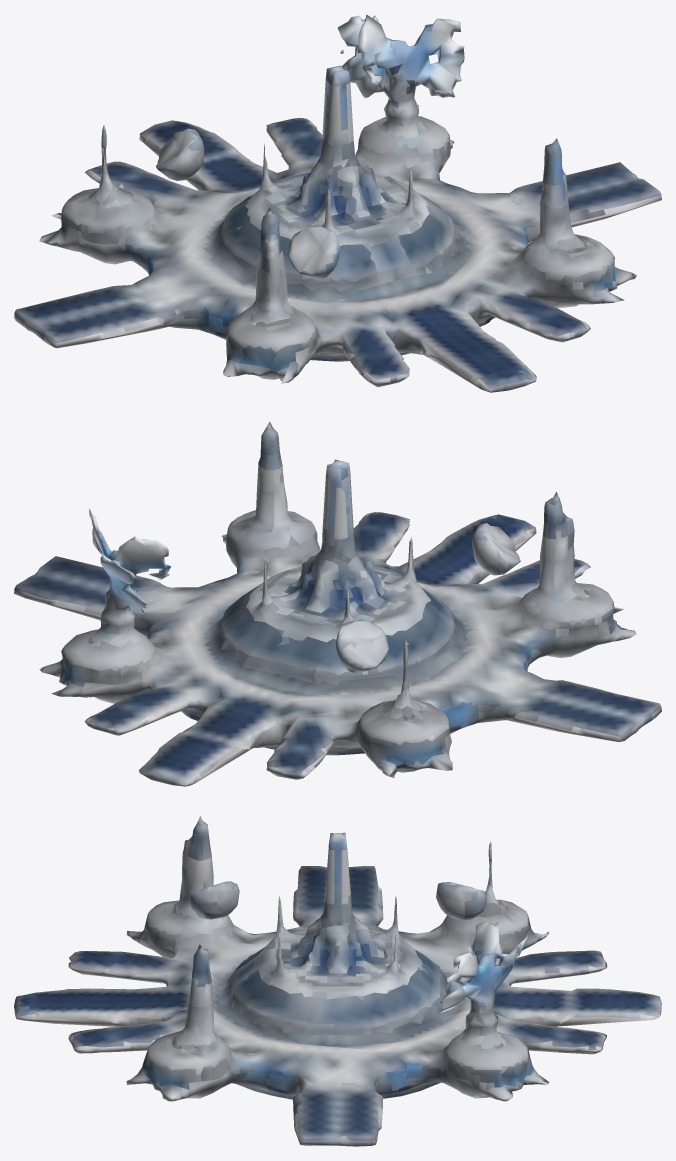
File: alliance_research_outpost_lod2.glb
The picture shows the model from 3 angles, top to bottom: view 1: azimuth 30°, elevation 25°; view 2: azimuth 150°, elevation 25°; view 3: azimuth 270°, elevation 25°; orthographic projection. The views are drawn at different scales.
Parts seen in each view (by area): view 1: model; view 2: model; view 3: model.
Part boxes in pixels (x1,y1,x2,y2): model: (14,14,661,392); model: (14,421,661,786); model: (14,815,661,1146).
Bounding box in the file's own units: 1.87 × 0.7618 × 1.88.
Materials: 1 (1 with a texture image).
